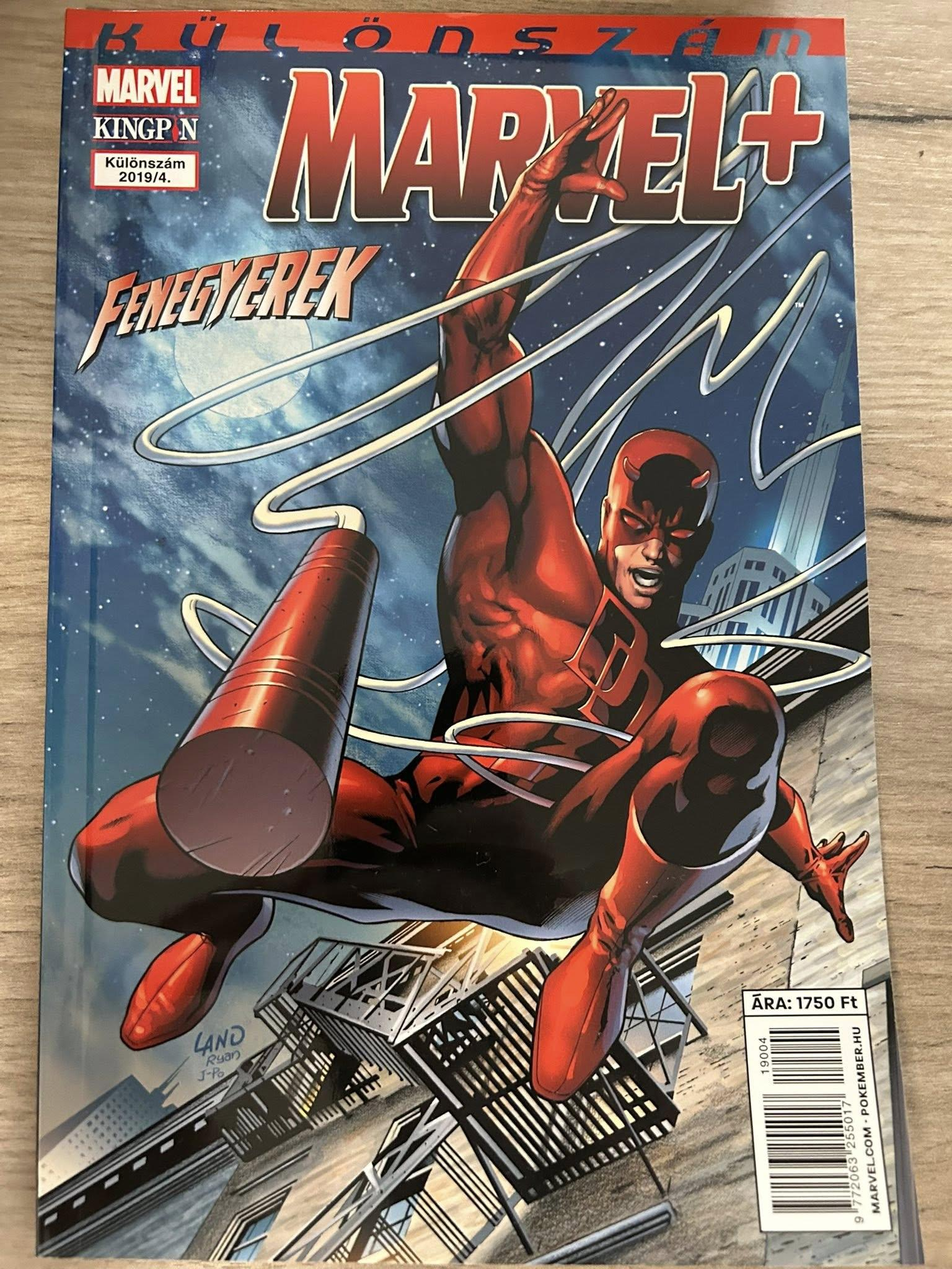comic: (38, 9, 928, 1266)
